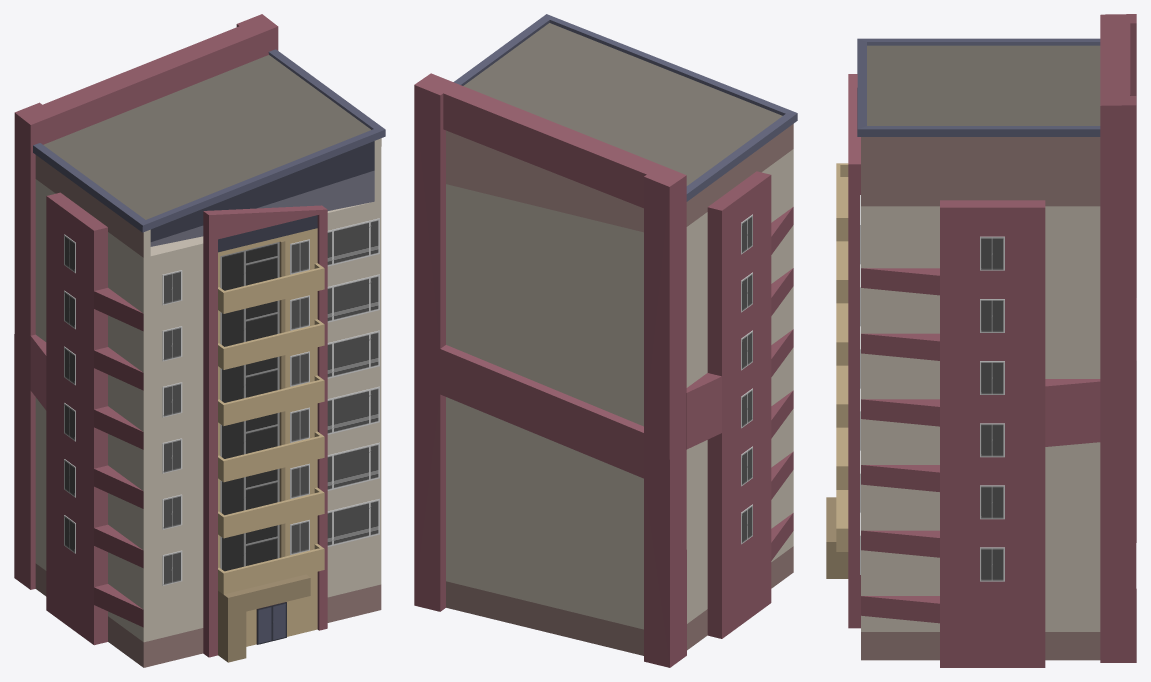
Rendered from building08_color01.fbx.
3 views of the same model, side by side, from view 1: azimuth 30°, elevation 25°; view 2: azimuth 150°, elevation 25°; view 3: azimuth 270°, elevation 25° (orthographic). The views are drawn at different scales.
Visible parts, largest first — view 1: building08_color01; view 2: building08_color01; view 3: building08_color01.
Boxes of the visible parts, bbox=[...] form: building08_color01: bbox=[14, 14, 385, 667]; building08_color01: bbox=[414, 14, 797, 667]; building08_color01: bbox=[826, 14, 1136, 667].
Bounding box in the file's own units: 1685 × 3038 × 1533.
